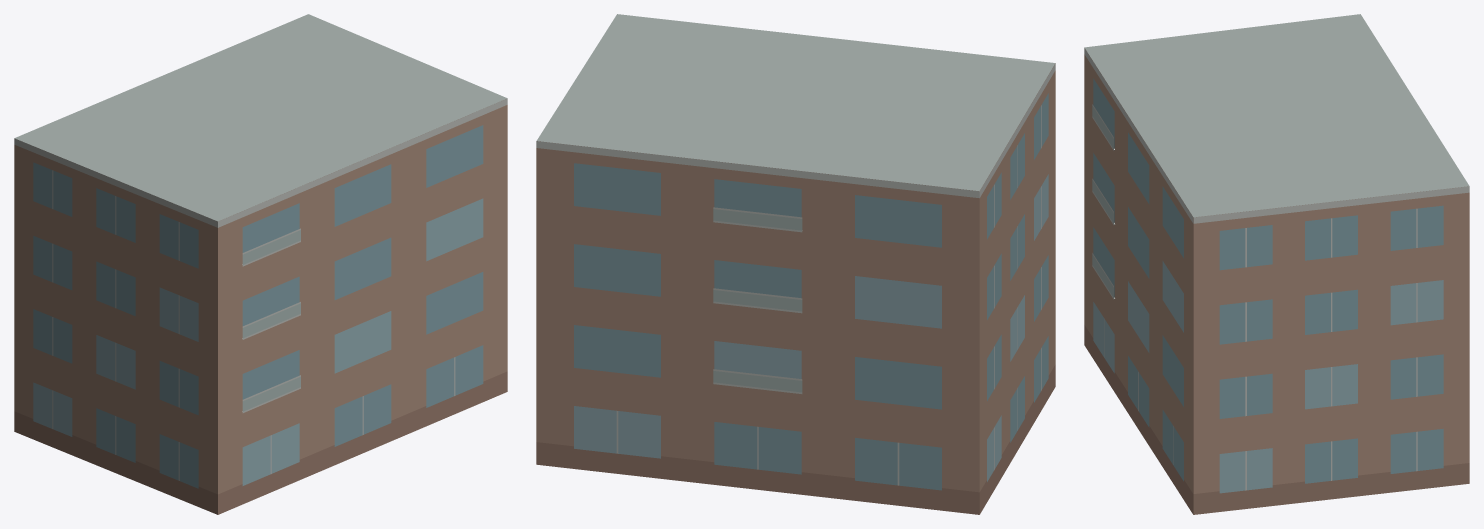
The model's file is survey-upis-32693120.glb.
3 views of the same model, side by side, from view 1: azimuth 30°, elevation 25°; view 2: azimuth 150°, elevation 25°; view 3: azimuth 270°, elevation 25° (orthographic). The views are drawn at different scales.
Visible parts, largest first — view 1: survey-upis-32693120.tmp; view 2: survey-upis-32693120.tmp; view 3: survey-upis-32693120.tmp.
Boxes of the visible parts, x1,y1,x2,y2 form: survey-upis-32693120.tmp: (14, 14, 507, 514); survey-upis-32693120.tmp: (536, 14, 1055, 514); survey-upis-32693120.tmp: (1084, 14, 1469, 514).
Size of the model in its own units: 16.5 by 11.25 by 13.22.
